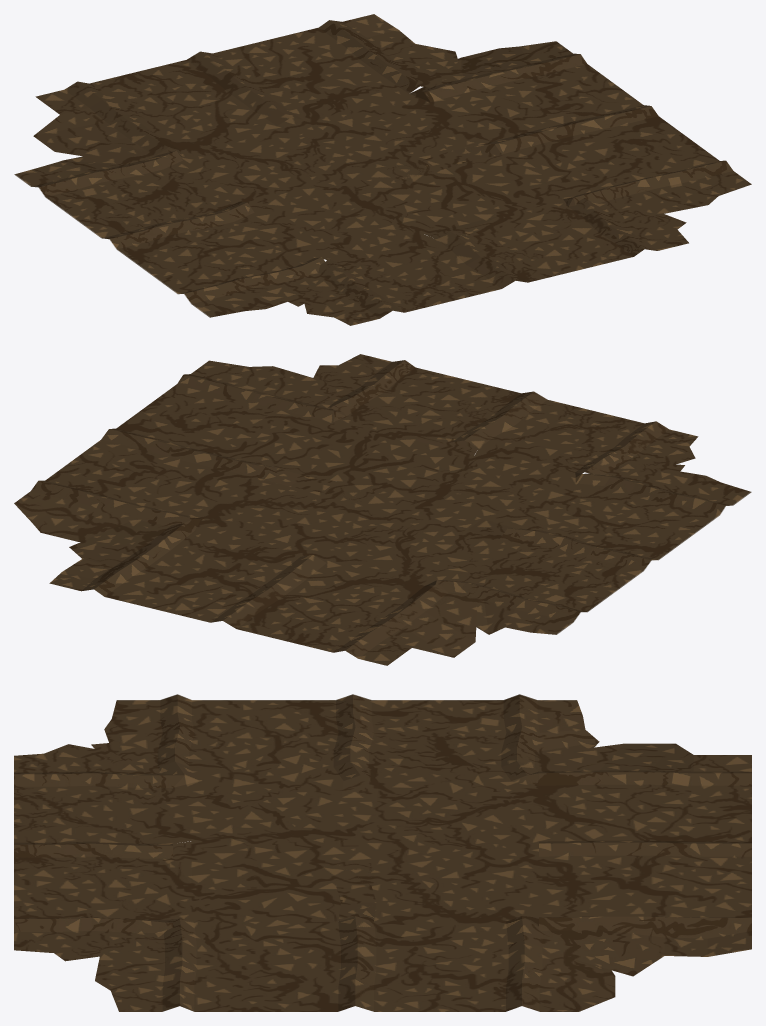
Rendered from SM_Env_Road_Dirt_Intersection_01.fbx.
3 renders of one model, top to bottom at view 1: azimuth 30°, elevation 25°; view 2: azimuth 150°, elevation 25°; view 3: azimuth 270°, elevation 25°, orthographic. The views are drawn at different scales.
Parts seen in each view (by area): view 1: Plane.001; view 2: Plane.001; view 3: Plane.001.
Part boxes in pixels (x1,y1,x2,y2): Plane.001: (14,14,751,325); Plane.001: (14,354,751,665); Plane.001: (14,694,751,1011).
Bounding box in the file's own units: 1121 × 25.59 × 1121.
